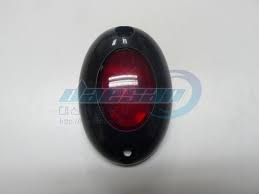bell: (78, 24, 173, 167)
